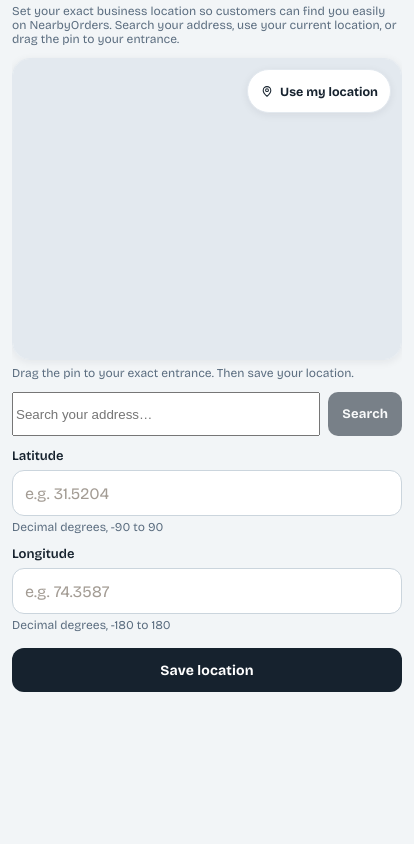
Test: OwnerLocation map picker (Phase 12) › use-my-location fills the fields from the device position
This screenshot has width=414, height=844.
Click the button "Use my location" at (319, 91), box x1=247 y1=69 x2=391 y2=113
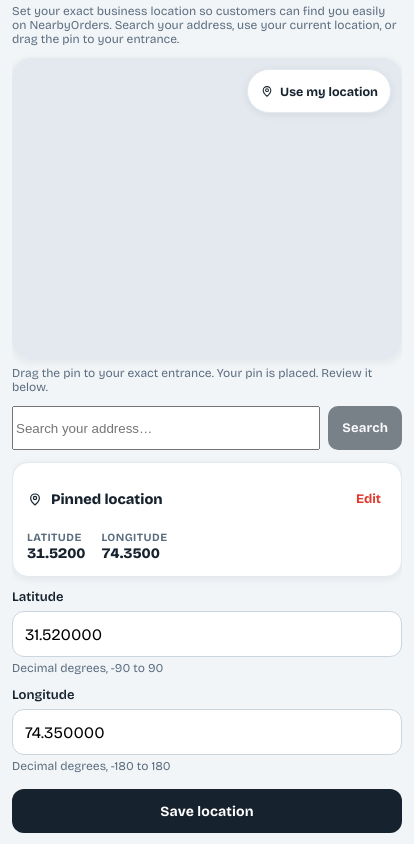
Now the field labelled "Latitude" holds "31.520000", box x1=12 y1=611 x2=402 y2=657
Now the field labelled "Longitude" holds "74.350000", box x1=12 y1=709 x2=402 y2=755
Now the text "Pinned location" is shown, box x1=27 y1=490 x2=163 y2=508
